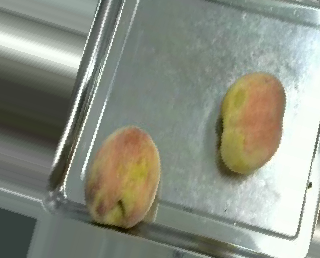Peach: (84, 125, 160, 228), (217, 70, 284, 174)
